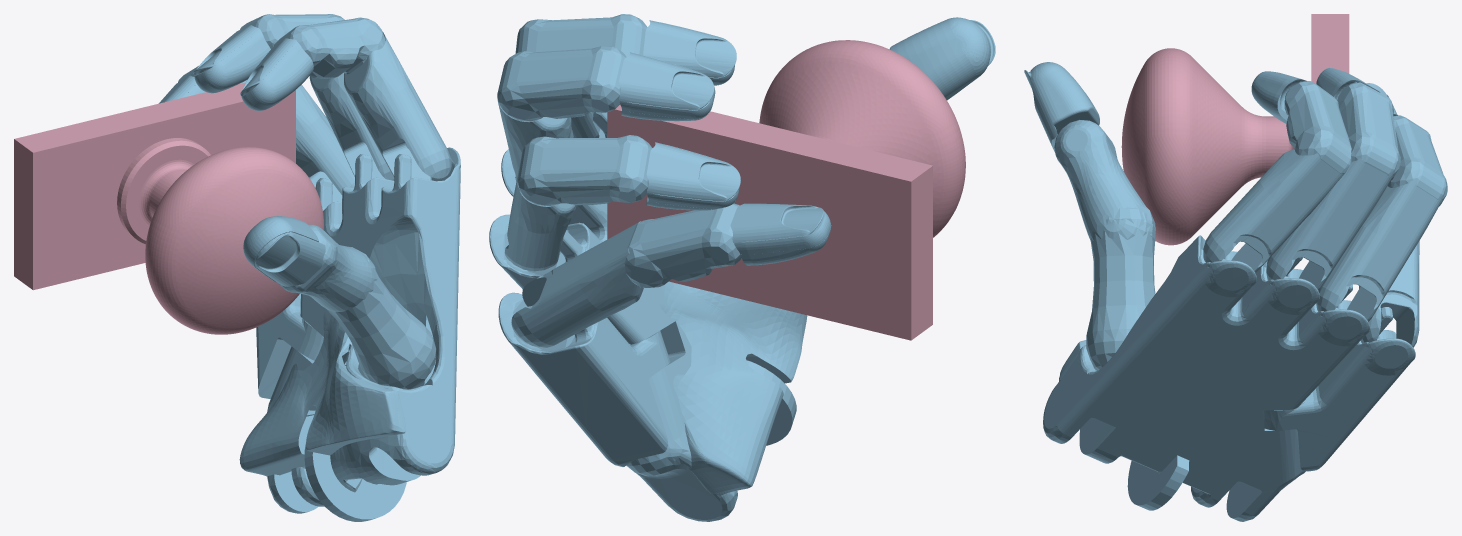
3 views of the same model, side by side, from view 1: azimuth 30°, elevation 25°; view 2: azimuth 150°, elevation 25°; view 3: azimuth 270°, elevation 25° (orthographic). The views are drawn at different scales.
Parts seen in each view (by area): view 1: world; view 2: world; view 3: world.
Part boxes in pixels (x1,y1,x2,y2): world: [14, 14, 460, 521]; world: [489, 14, 995, 521]; world: [1024, 14, 1447, 521].
Bounding box in the file's own units: 0.1458 × 0.1643 × 0.1396.
